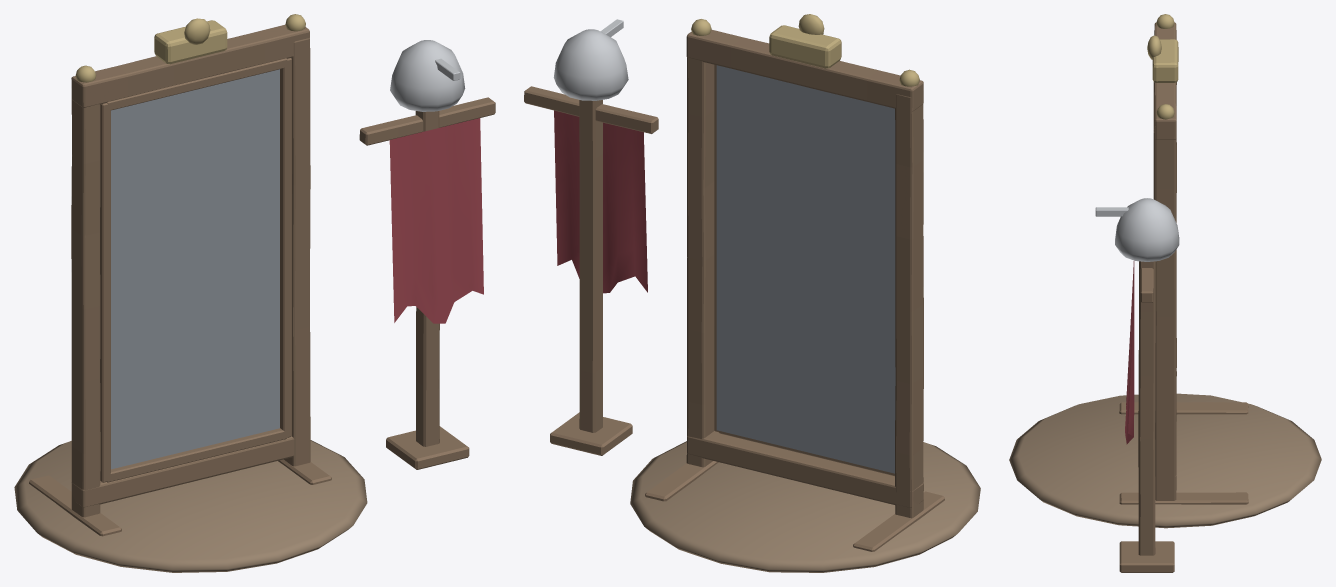
File: mirror.glb
3 views of the same model, side by side, from view 1: azimuth 30°, elevation 25°; view 2: azimuth 150°, elevation 25°; view 3: azimuth 270°, elevation 25° (orthographic). The views are drawn at different scales.
Parts seen in each view (by area): view 1: mirror; view 2: mirror; view 3: mirror.
Boxes of the visible parts, x1,y1,x2,y2 form: mirror: (14, 14, 495, 572); mirror: (524, 14, 980, 572); mirror: (1009, 14, 1321, 572).
Bounding box in the file's own units: 2.46 × 2.57 × 1.7.
